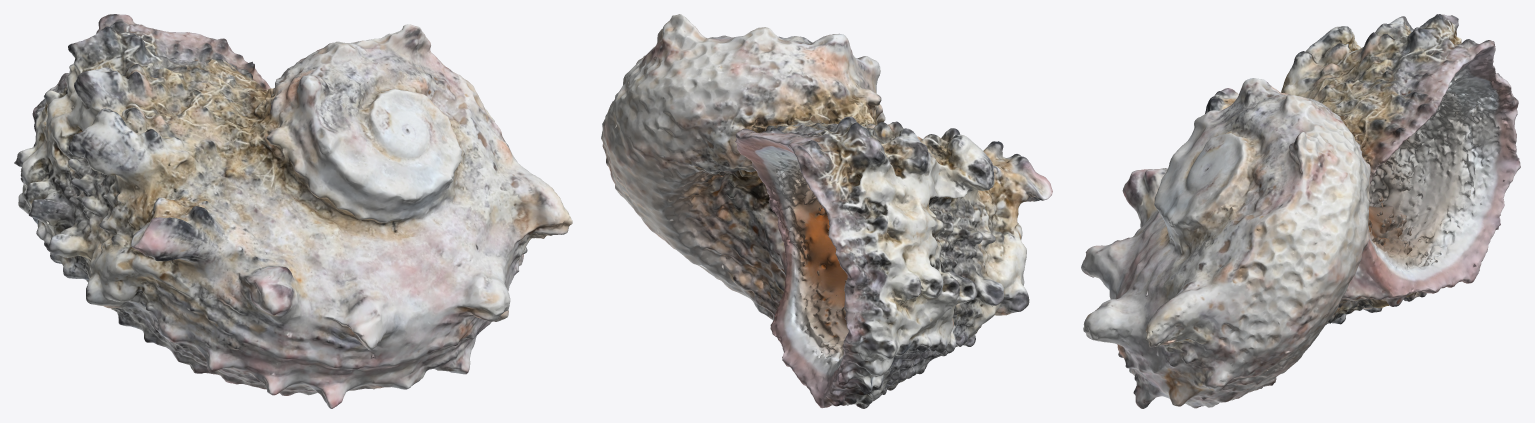
The model's file is MZUR3D-050.glb.
The picture shows the model from 3 angles, left to right: view 1: azimuth 30°, elevation 25°; view 2: azimuth 150°, elevation 25°; view 3: azimuth 270°, elevation 25°; orthographic projection. The views are drawn at different scales.
Parts seen in each view (by area): view 1: Angaria; view 2: Angaria; view 3: Angaria.
Boxes of the visible parts, box(x1,y1,x2,y2) form: Angaria: box(14, 14, 572, 408); Angaria: box(601, 14, 1052, 408); Angaria: box(1081, 14, 1520, 408).
Bounding box in the file's own units: 1.82 × 1.26 × 1.65.
1 material, 1 textured.
